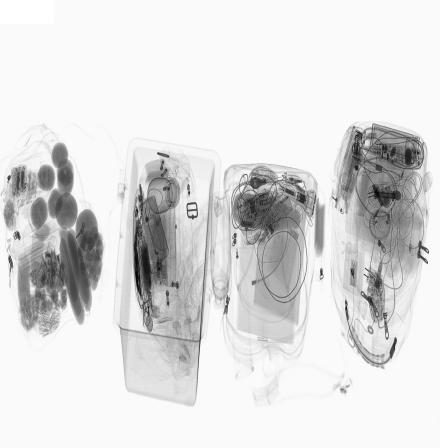Powerbank: (11, 165, 28, 198)
